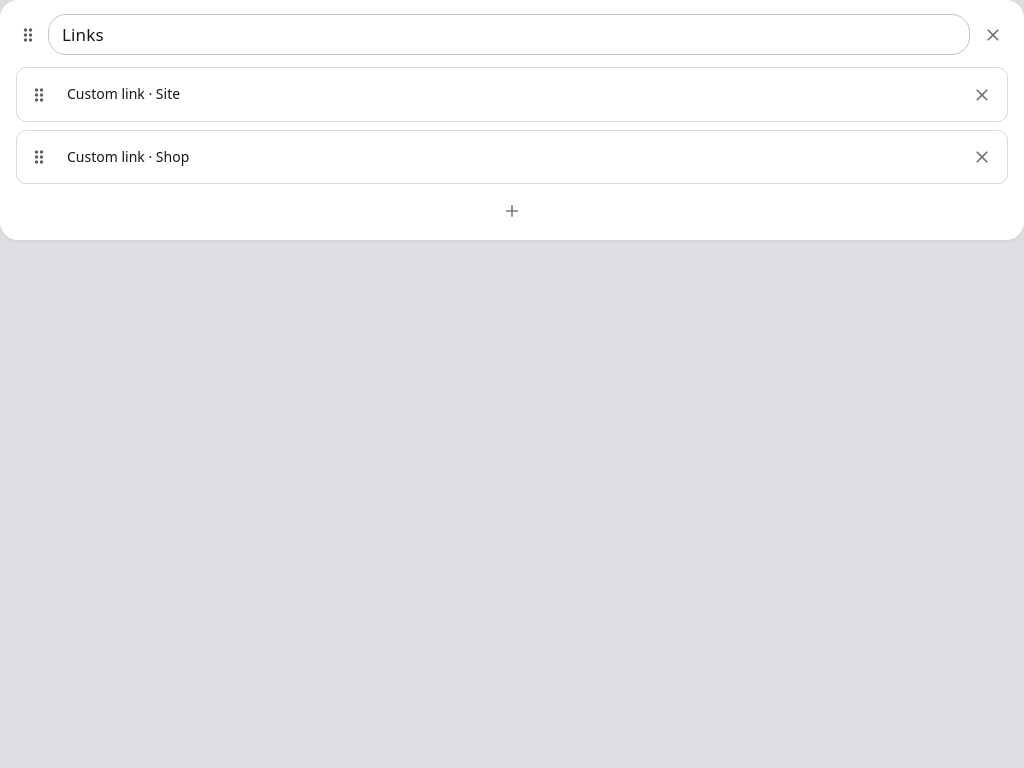
Test case: SectionEditor (extracted editor component) › offers every widget type in the add menu
What coordinates should you click on to do the following:
click the button named "Add"
I would click on:
 (512, 211)
Its box is [497,196,527,226].
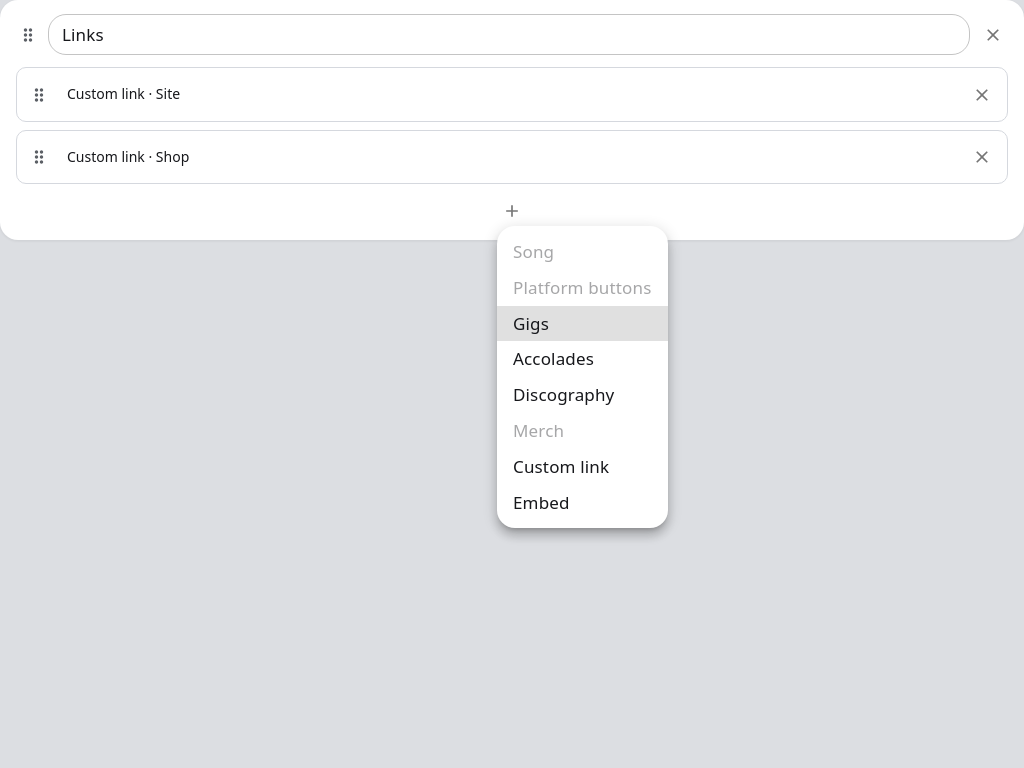
Expected: the menu item "Song" is shown, [513,240,554,263]
Expected: the menu item "Platform buttons" is shown, [513,276,652,299]
Expected: the menu item "Gigs" is shown, [497,306,668,341]
